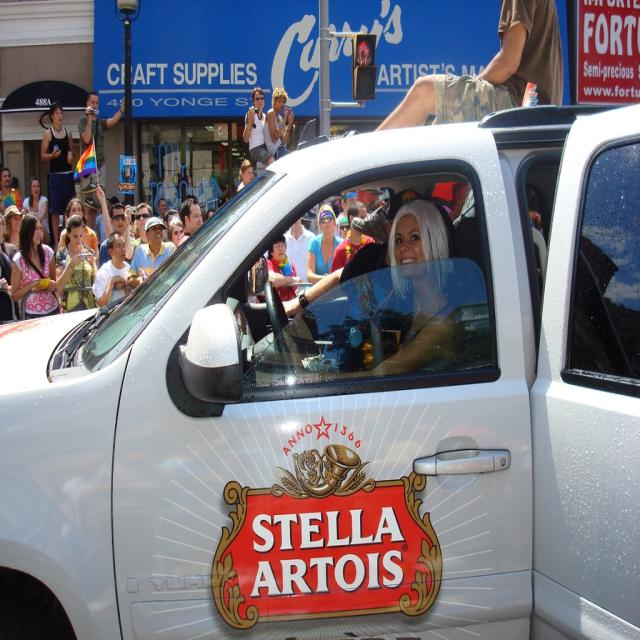stellaartois: (210, 414, 447, 634)
